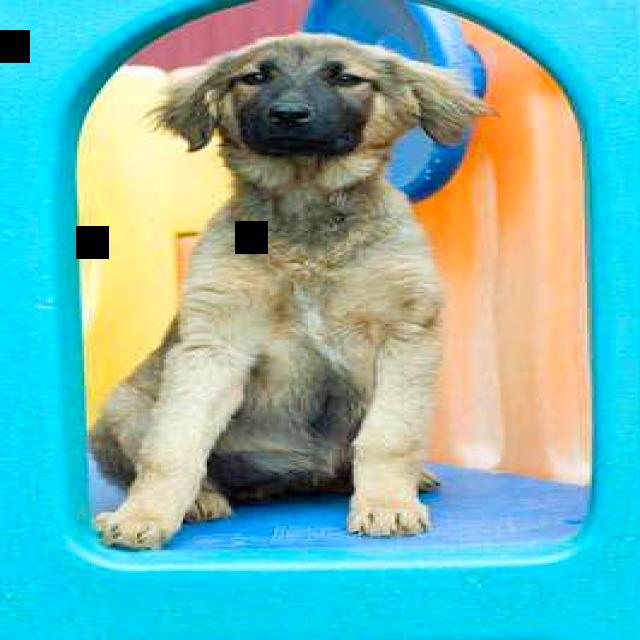puppy-dog: (85, 34, 494, 550)
